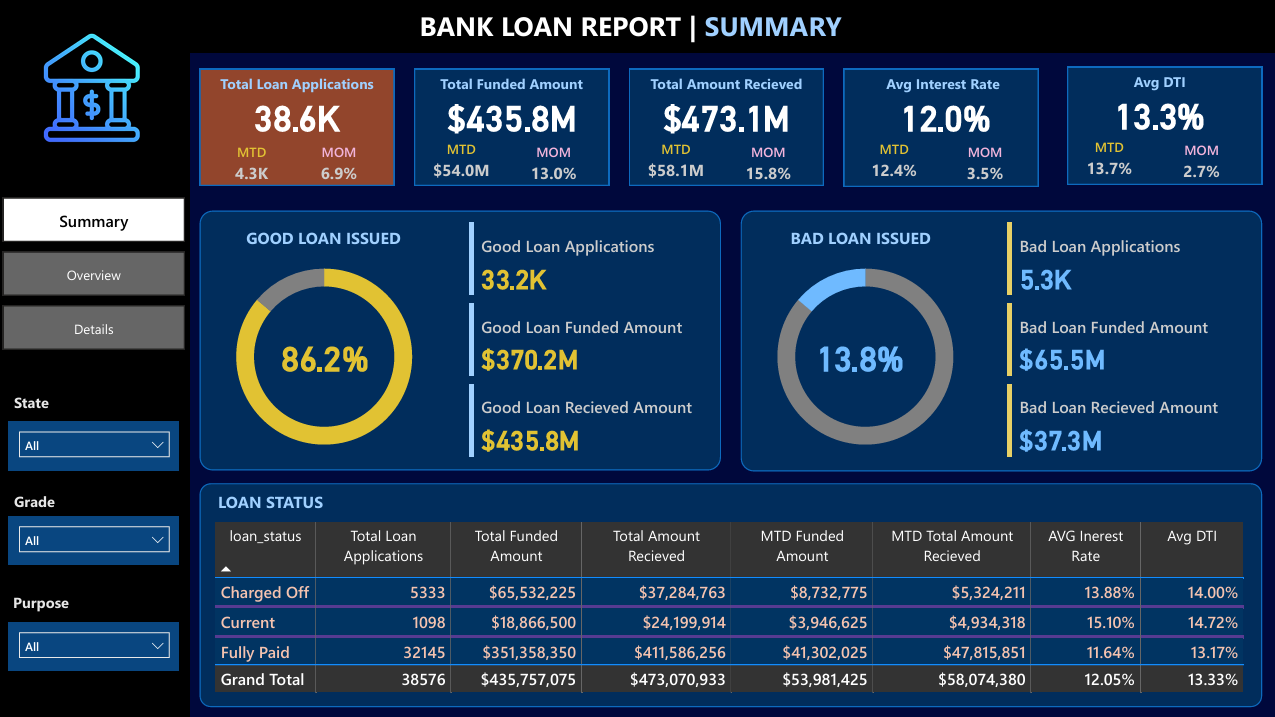

The page's visual inventory and layout, read from the dashboard file:
{"tool":"powerbi","page":{"name":"Summary","canvas":[1280,720],"ordinal":0},"visuals":[{"type":"shape","box":[0,0,1280,55],"z":0},{"type":"shape","box":[1070.3,67.9,194.6,117.9],"z":0,"group":"g5"},{"type":"shape","box":[201.5,69.9,195.1,117.3],"z":0,"group":"g1"},{"type":"shape","box":[416.3,69.9,195.1,117.3],"z":0,"group":"g2"},{"type":"shape","box":[631.1,69.9,195.1,117.3],"z":0,"group":"g3"},{"type":"shape","box":[845.9,69.9,194.6,117.9],"z":0,"group":"g4"},{"type":"shape","box":[0,54.8,192,665.5],"z":1000},{"type":"card","fields":{"Values":["financial_loan.Avg DTI"]},"box":[1064.8,87,195.1,54.8],"z":1000,"group":"g5"},{"type":"card","fields":{"Values":["financial_loan.Total Loan Applications"]},"box":[201.5,89,195.1,54.8],"z":1000,"group":"g1"},{"type":"card","fields":{"Values":["financial_loan.Total Funded Amount"]},"box":[416.3,89,195.1,54.8],"z":1000,"group":"g2"},{"type":"card","fields":{"Values":["financial_loan.Total Amount Recieved"]},"box":[631.1,89,195.1,54.8],"z":1000,"group":"g3"},{"type":"card","fields":{"Values":["financial_loan.AVG Inerest Rate"]},"box":[849.7,89,195.1,54.8],"z":1000,"group":"g4"},{"type":"textbox","box":[1064.8,67.9,195.1,37],"z":2000,"group":"g5"},{"type":"textbox","box":[201.5,69.9,195.1,37],"z":2000,"group":"g1"},{"type":"textbox","box":[416.3,69.9,195.1,37],"z":2000,"group":"g2"},{"type":"textbox","box":[631.1,69.9,195.1,37],"z":2000,"group":"g3"},{"type":"textbox","box":[847.8,69.9,195.1,37],"z":2000,"group":"g4"},{"type":"shape","box":[201.5,212.4,522,260],"z":2000},{"type":"card","title":"MTD","fields":{"Values":["financial_loan.MTD Avg DTI"]},"box":[1077.4,138.9,68.5,46.6],"z":3000,"group":"g5"},{"type":"card","title":"MTD","fields":{"Values":["financial_loan.MTD Funded Amount"]},"box":[428.9,140.9,68.5,46.6],"z":3000,"group":"g2"},{"type":"card","title":"MTD","fields":{"Values":["financial_loan.MTD Total Amount Recieved"]},"box":[643.7,140.9,68.5,46.6],"z":3000,"group":"g3"},{"type":"card","title":"MTD","fields":{"Values":["financial_loan.MTD Avg Int Rate"]},"box":[862.3,140.9,68.5,46.6],"z":3000,"group":"g4"},{"type":"card","title":"MTD","fields":{"Values":["financial_loan.MTD Loan Applications"]},"box":[224.3,144,57.7,43.3],"z":3000,"group":"g1"},{"type":"card","fields":{"Values":["financial_loan.Good Loan Perc"]},"box":[245.3,330.3,161.7,54.8],"z":3000},{"type":"card","title":"MOM","fields":{"Values":["financial_loan.MOM Avg DTI"]},"box":[1175.5,142,57.7,43.3],"z":4000,"group":"g5"},{"type":"card","title":"MOM","fields":{"Values":["financial_loan.MOM Loan Applications"]},"box":[312.2,144,57.7,43.3],"z":4000,"group":"g1"},{"type":"card","title":"MOM","fields":{"Values":["financial_loan.MOM Total Funded Amount"]},"box":[527,144,57.7,43.3],"z":4000,"group":"g2"},{"type":"card","title":"MOM","fields":{"Values":["financial_loan.MOM Total Amount Recieved"]},"box":[741.8,144,57.7,43.3],"z":4000,"group":"g3"},{"type":"card","title":"MOM","fields":{"Values":["financial_loan.MOM Avg Int Rate"]},"box":[958.5,144,57.7,43.3],"z":4000,"group":"g4"},{"type":"textbox","box":[227.5,223.4,196,37],"z":4000},{"type":"shape","box":[201.5,485.1,1063.5,223.4],"z":5000},{"type":"textbox","box":[415.6,2.5,447.5,49.7],"z":6000},{"type":"group","id":"g1","title":"Group 1","box":[201.5,69.9,194.6,117.9],"z":7000},{"type":"group","id":"g2","title":"Group 1","box":[416.3,69.9,194.6,117.9],"z":8000},{"type":"group","id":"g3","title":"Group 1","box":[631.1,69.9,194.6,117.9],"z":9000},{"type":"group","id":"g4","title":"Group 1","box":[845.9,69.9,198.7,117.9],"z":10000},{"type":"group","id":"g5","title":"Group 1","box":[1064.8,67.9,200.1,117.9],"z":11000},{"type":"shape","box":[742.8,212.4,522.1,260.4],"z":12000},{"type":"donutChart","fields":{"Category":["financial_loan.Good vs. Bad Loan"],"Y":["financial_loan.Total Loan Applications"]},"box":[201.5,242.6,249.4,230.2],"z":13000},{"type":"cardVisual","fields":{"Data":["financial_loan.Good Loan Applications","financial_loan.Good Loan Funded Amount","financial_loan.Good Loan Recieved Amount"]},"box":[466,219.3,250.8,246.7],"z":14000},{"type":"donutChart","fields":{"Category":["financial_loan.Good vs. Bad Loan"],"Y":["financial_loan.Total Loan Applications"]},"box":[742.8,242.6,249.4,230.2],"z":15000},{"type":"textbox","box":[764.7,223.4,196,37],"z":16000},{"type":"card","fields":{"Values":["financial_loan.Bad Loan Perc"]},"box":[781.2,330.3,161.7,54.8],"z":17000},{"type":"cardVisual","fields":{"Data":["financial_loan.Bad Loan Applications","financial_loan.Bad Loan Funded Amount","financial_loan.Bad Loan Recieved Amount"]},"box":[1004.5,219.3,250.8,246.7],"z":18000},{"type":"tableEx","fields":{"Values":["financial_loan.loan_status","financial_loan.Total Loan Applications","financial_loan.Total Funded Amount","financial_loan.Total Amount Recieved","financial_loan.MTD Funded Amount","financial_loan.MTD Total Amount Recieved","financial_loan.AVG Inerest Rate","financial_loan.Avg DTI"]},"box":[211.5,518.7,1042.9,182.5],"z":19000},{"type":"textbox","box":[191.6,488.1,159.9,41.3],"z":20000},{"type":"slicer","fields":{"Values":["financial_loan.address_state"]},"box":[9.6,423.5,171.3,49.3],"z":21000},{"type":"textbox","box":[9.6,389.2,71.3,34.3],"z":22000},{"type":"slicer","fields":{"Values":["financial_loan.grade"]},"box":[9.6,518,171.3,49.3],"z":23000},{"type":"textbox","box":[9.6,487.9,71.3,34.3],"z":24000},{"type":"slicer","fields":{"Values":["financial_loan.purpose"]},"box":[9.6,623.6,171.3,49.3],"z":25000},{"type":"textbox","box":[9.1,589,83.3,34.8],"z":26000},{"type":"image","box":[10,13.8,165,150],"z":27000},{"type":"pageNavigator","box":[3.8,198.8,182.5,153.8],"z":28000}]}

Visuals, with their boxes in screenshot pixels (x1, y1, x2, y2), scaled from the page's 1280x720 canvas onto the 1275x717 screenshot:
shape: 0:0:1274:55
shape: 1066:68:1260:185
shape: 201:70:395:186
shape: 415:70:609:186
shape: 629:70:823:186
shape: 843:70:1036:187
shape: 0:55:191:716
card - financial_loan.Avg DTI: 1061:87:1255:141
card - financial_loan.Total Loan Applications: 201:89:395:143
card - financial_loan.Total Funded Amount: 415:89:609:143
card - financial_loan.Total Amount Recieved: 629:89:823:143
card - financial_loan.AVG Inerest Rate: 846:89:1041:143
textbox: 1061:68:1255:104
textbox: 201:70:395:106
textbox: 415:70:609:106
textbox: 629:70:823:106
textbox: 844:70:1039:106
shape: 201:212:721:470
"MTD" card: 1073:138:1141:185
"MTD" card: 427:140:495:187
"MTD" card: 641:140:709:187
"MTD" card: 859:140:927:187
"MTD" card: 223:143:281:187
card - financial_loan.Good Loan Perc: 244:329:405:383
"MOM" card: 1171:141:1228:185
"MOM" card: 311:143:368:187
"MOM" card: 525:143:582:187
"MOM" card: 739:143:796:187
"MOM" card: 955:143:1012:187
textbox: 227:222:422:259
shape: 201:483:1260:706
textbox: 414:2:860:52
"Group 1" group: 201:70:395:187
"Group 1" group: 415:70:609:187
"Group 1" group: 629:70:822:187
"Group 1" group: 843:70:1041:187
"Group 1" group: 1061:68:1260:185
shape: 740:212:1260:471
donutChart - financial_loan.Good vs. Bad Loan x financial_loan.Total Loan Applications: 201:242:449:471
cardVisual - financial_loan.Good Loan Applications x financial_loan.Good Loan Funded Amount: 464:218:714:464
donutChart - financial_loan.Good vs. Bad Loan x financial_loan.Total Loan Applications: 740:242:988:471
textbox: 762:222:957:259
card - financial_loan.Bad Loan Perc: 778:329:939:383
cardVisual - financial_loan.Bad Loan Applications x financial_loan.Bad Loan Funded Amount: 1001:218:1250:464
tableEx - financial_loan.loan_status x financial_loan.Total Loan Applications: 211:517:1250:698
textbox: 191:486:350:527
slicer - financial_loan.address_state: 10:422:180:471
textbox: 10:388:81:422
slicer - financial_loan.grade: 10:516:180:565
textbox: 10:486:81:520
slicer - financial_loan.purpose: 10:621:180:670
textbox: 9:587:92:621
image: 10:14:174:163
pageNavigator: 4:198:186:351
